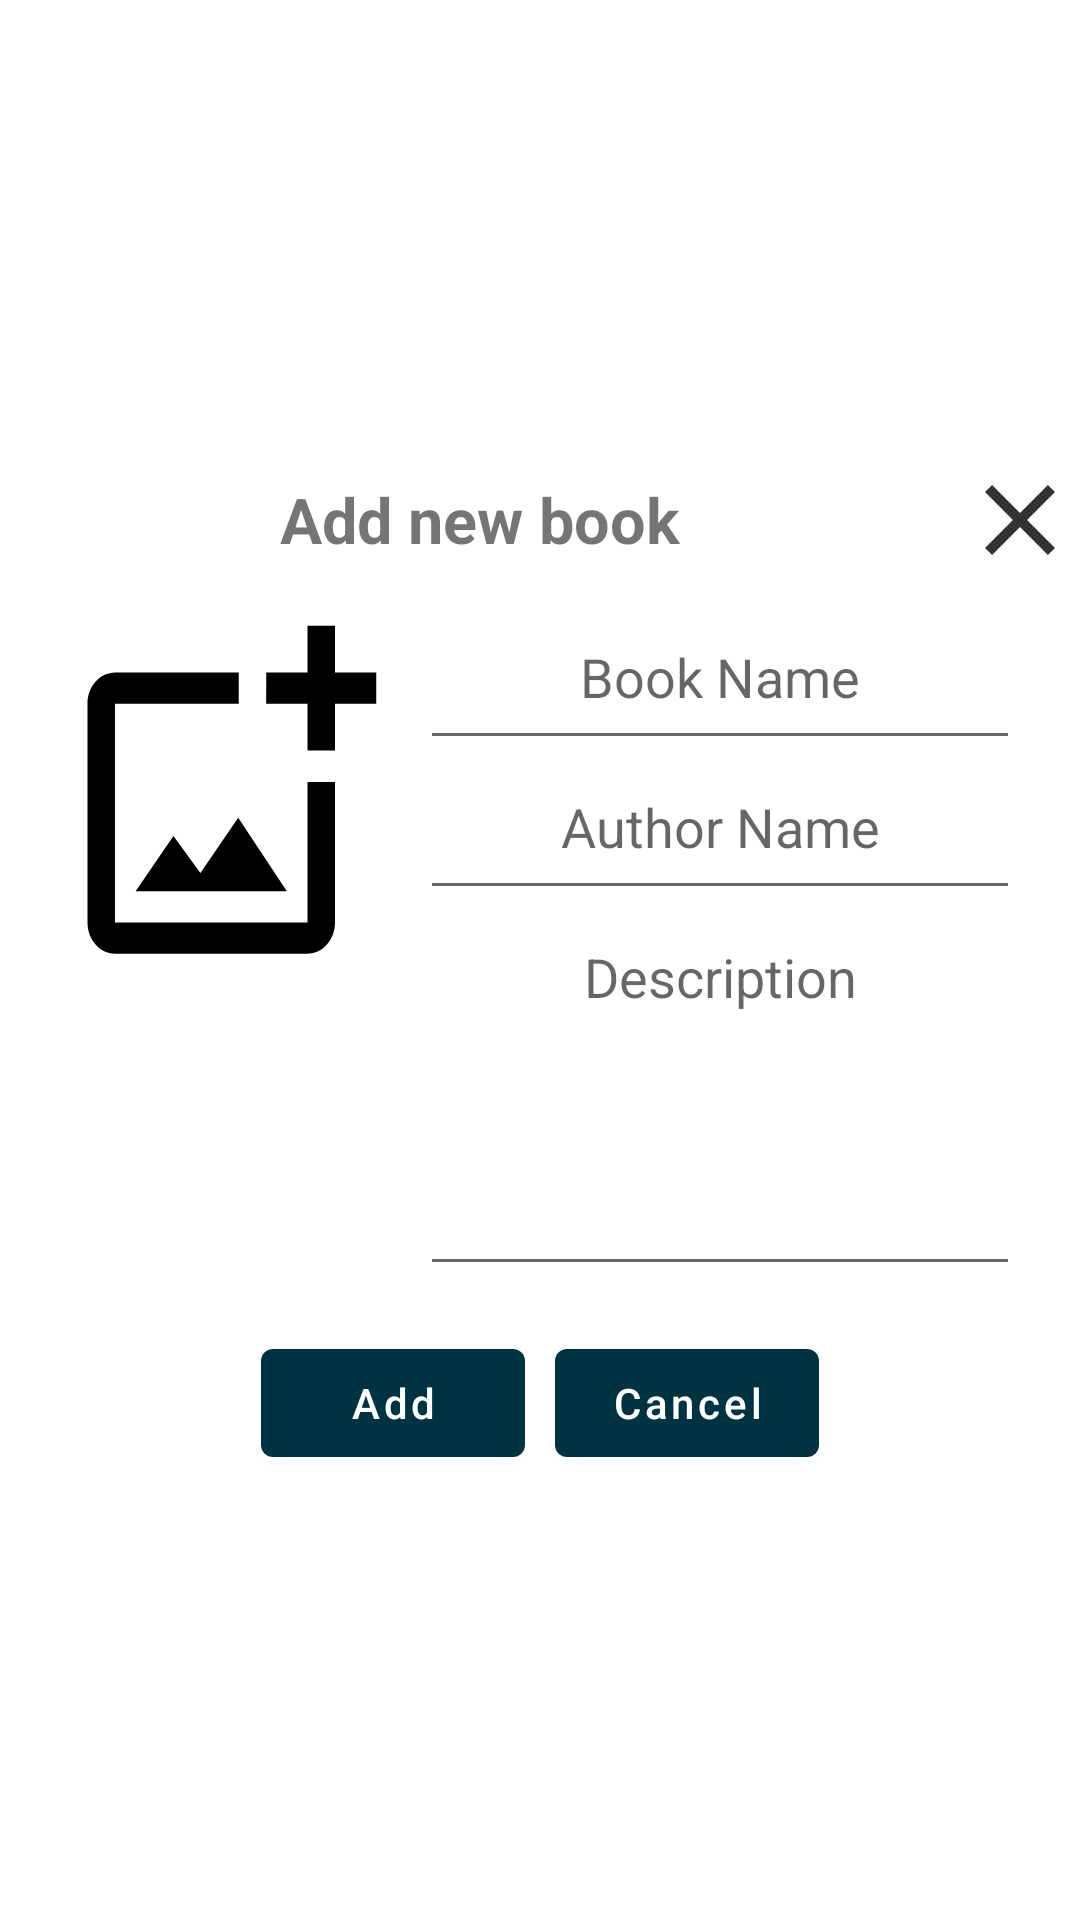

Where to tap for icons on this 1080*1920 app screen, as (x=x, y=y):
for closing app: (x=1020, y=520)
